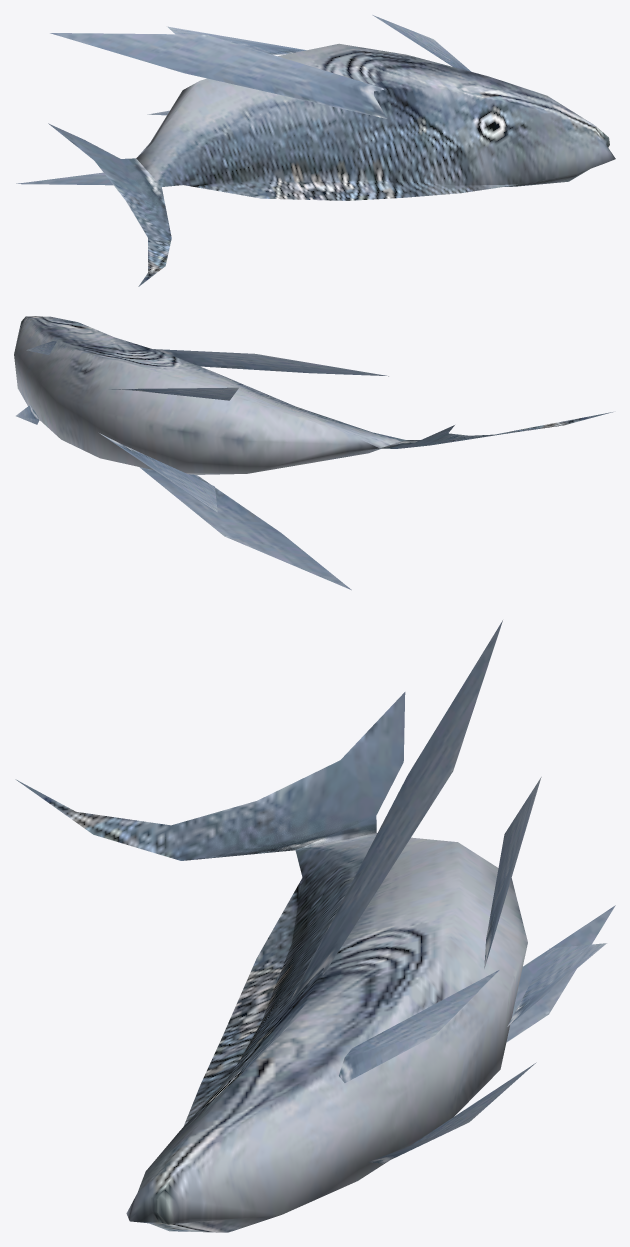
Rendered from edb_food_fish_lg_s1_l0.fbx.
The picture shows the model from 3 angles, top to bottom: view 1: azimuth 30°, elevation 25°; view 2: azimuth 150°, elevation 25°; view 3: azimuth 270°, elevation 25°; orthographic projection. The views are drawn at different scales.
Parts seen in each view (by area): view 1: mesh_node; view 2: mesh_node; view 3: mesh_node.
Boxes of the visible parts, x1,y1,x2,y2 form: mesh_node: (16, 15, 615, 286); mesh_node: (14, 316, 612, 590); mesh_node: (15, 620, 615, 1232).
Size of the model in its own units: 0.5325 by 0.1758 by 0.3319.
1 material, 1 textured.
